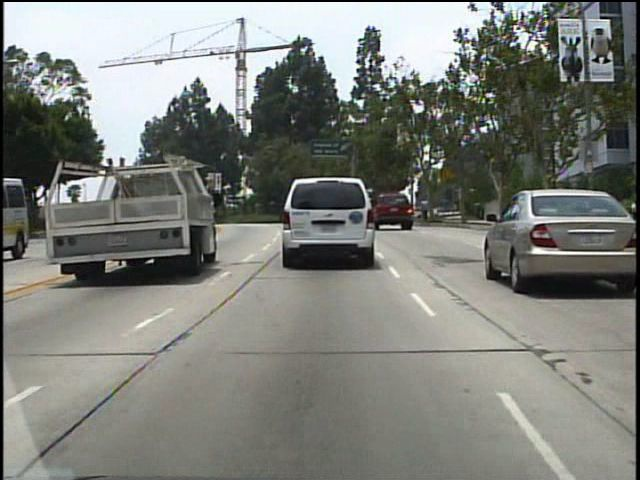person: (419, 194, 433, 226)
